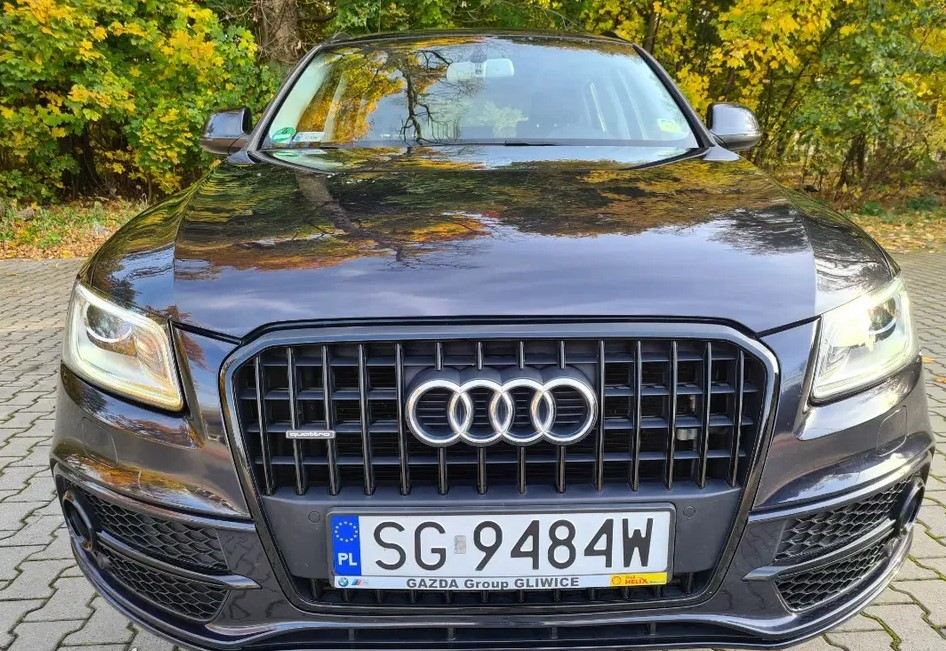number_plate: (319, 497, 683, 600)
